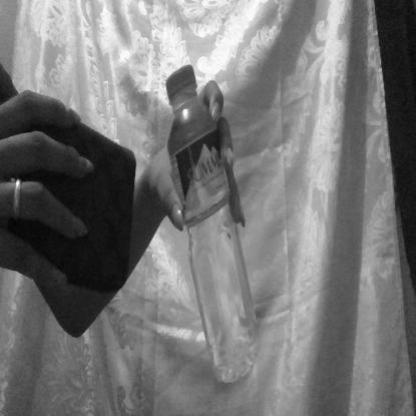Plastic Bottle: (158, 62, 283, 400)
